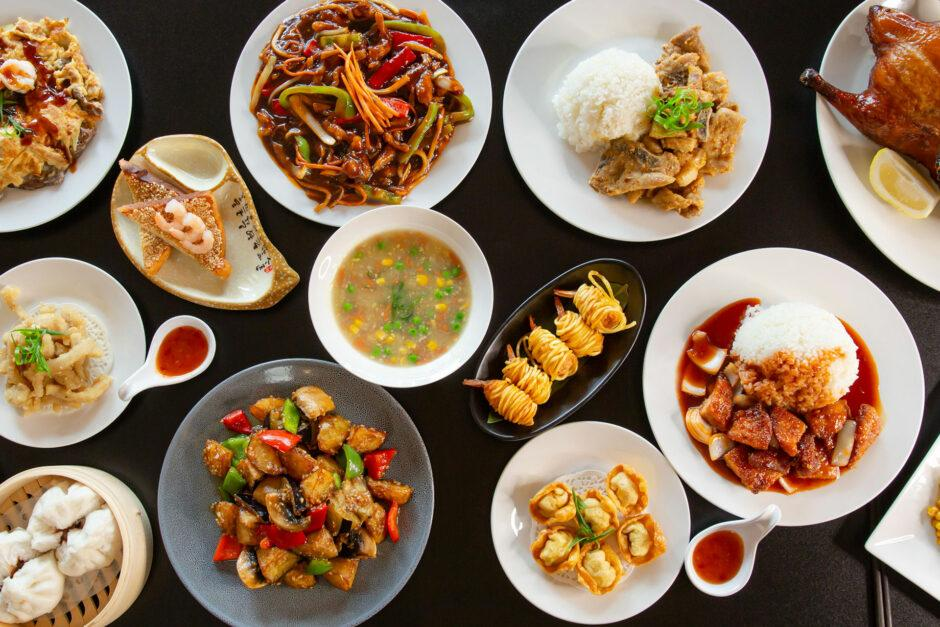Braised Crucian Carp: (639, 249, 924, 529), (155, 366, 436, 627), (502, 1, 750, 244), (228, 1, 483, 227), (484, 421, 677, 623), (117, 129, 300, 311), (0, 1, 133, 237), (306, 204, 484, 380), (475, 257, 633, 436), (1, 258, 148, 439), (1, 463, 152, 624)
